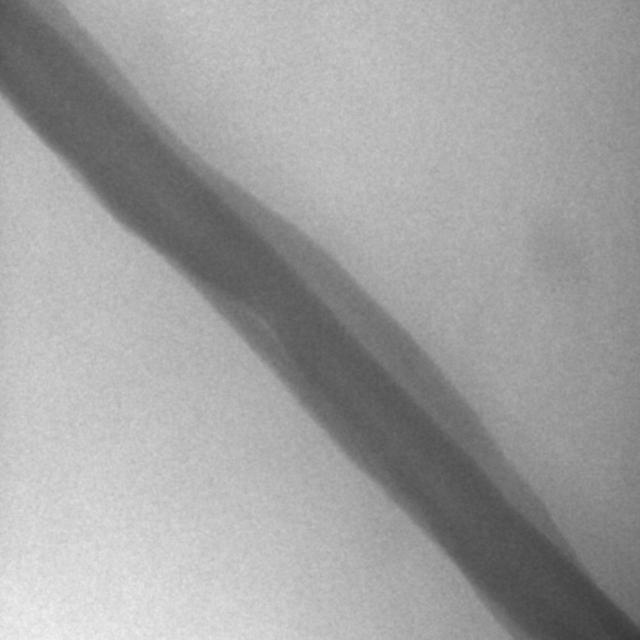unfused: (208, 159, 603, 640)
